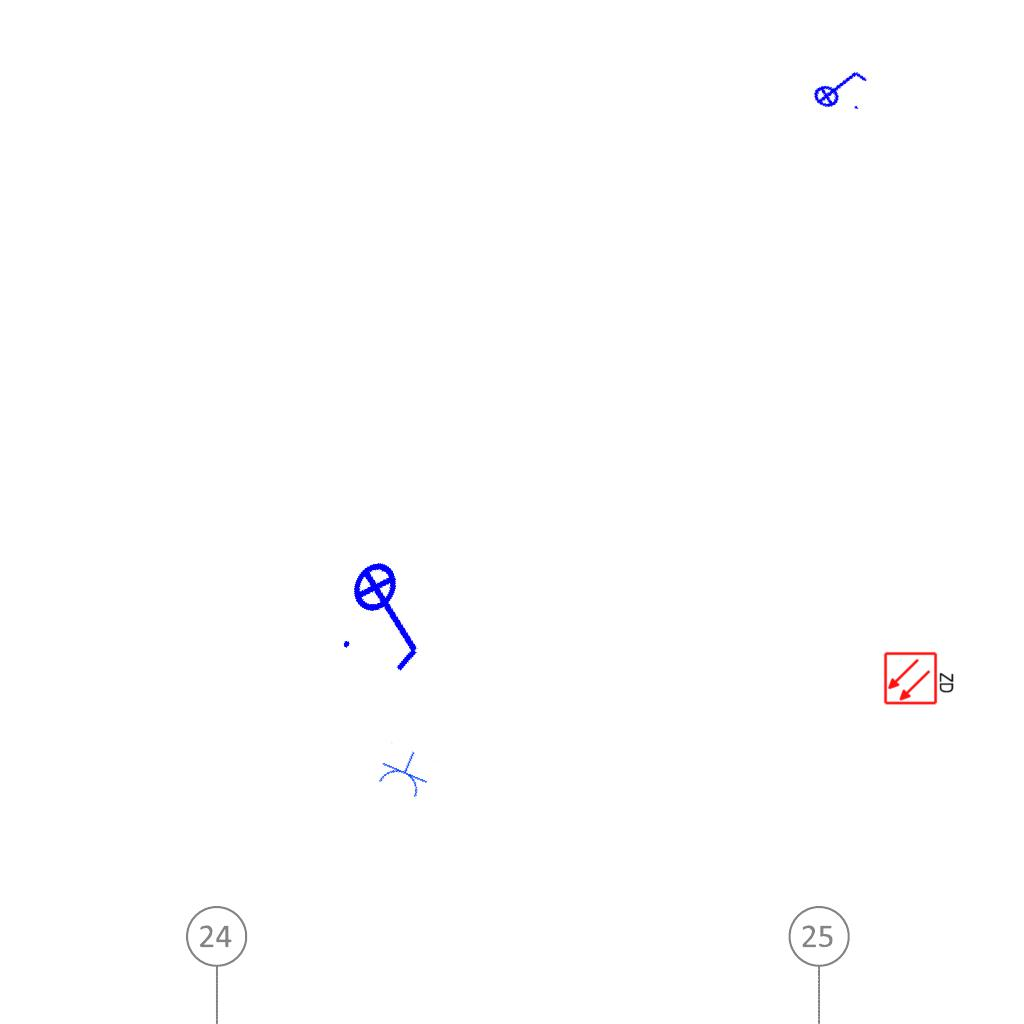Ausschalter_beleuchtet: (323, 542, 459, 686), (804, 54, 874, 120)
Schukosteckdose_einfach: (373, 741, 437, 802)
ZD_Melder_in_Zwischendecke_mit_Revisionsoeffnung_mind_40_x_40_cm: (883, 649, 957, 706)
